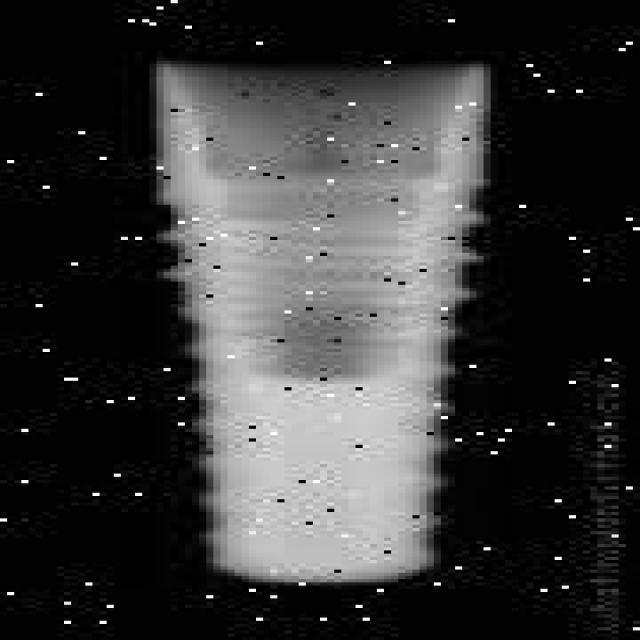Leone Implant: (138, 51, 491, 599)
